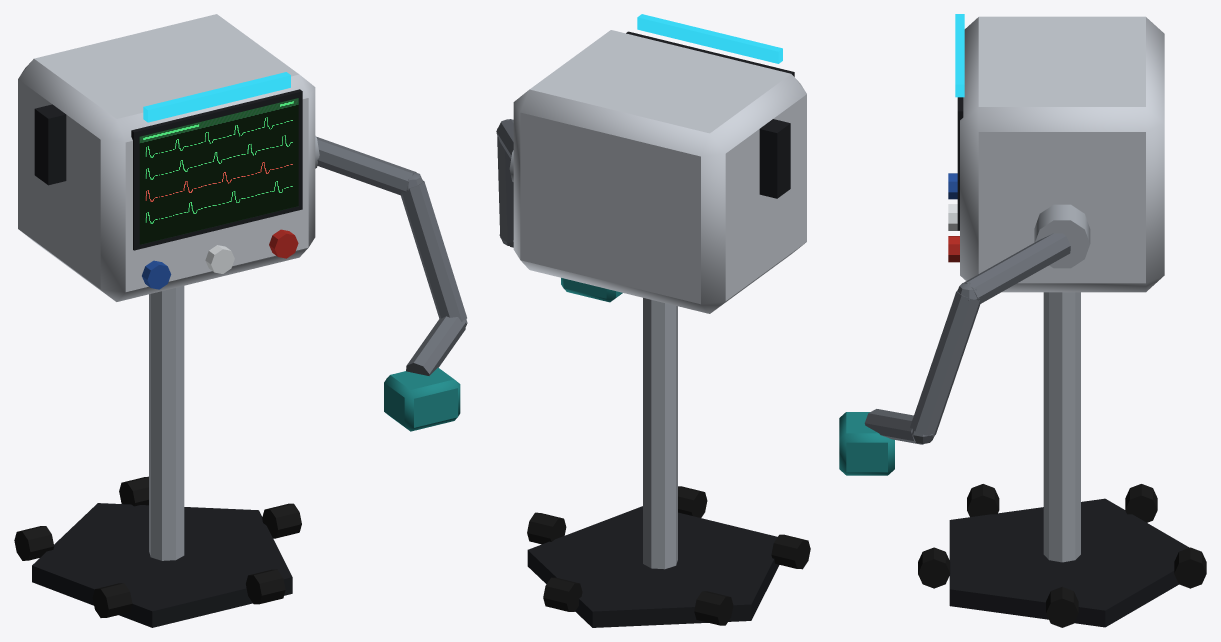
File: surgical_ventilator_unit.glb
The picture shows the model from 3 angles, left to right: view 1: azimuth 30°, elevation 25°; view 2: azimuth 150°, elevation 25°; view 3: azimuth 270°, elevation 25°; orthographic projection. The views are drawn at different scales.
Parts seen in each view (by area): view 1: surgical_ventilator_unit; view 2: surgical_ventilator_unit; view 3: surgical_ventilator_unit.
Boxes of the visible parts, left/top/right/bottom form: surgical_ventilator_unit: left=14, top=14, right=467, bottom=627; surgical_ventilator_unit: left=496, top=14, right=810, bottom=627; surgical_ventilator_unit: left=839, top=14, right=1206, bottom=627.
Size of the model in its own units: 0.895 by 1.24 by 0.7908.
Materials: 11 (1 with a texture image).
